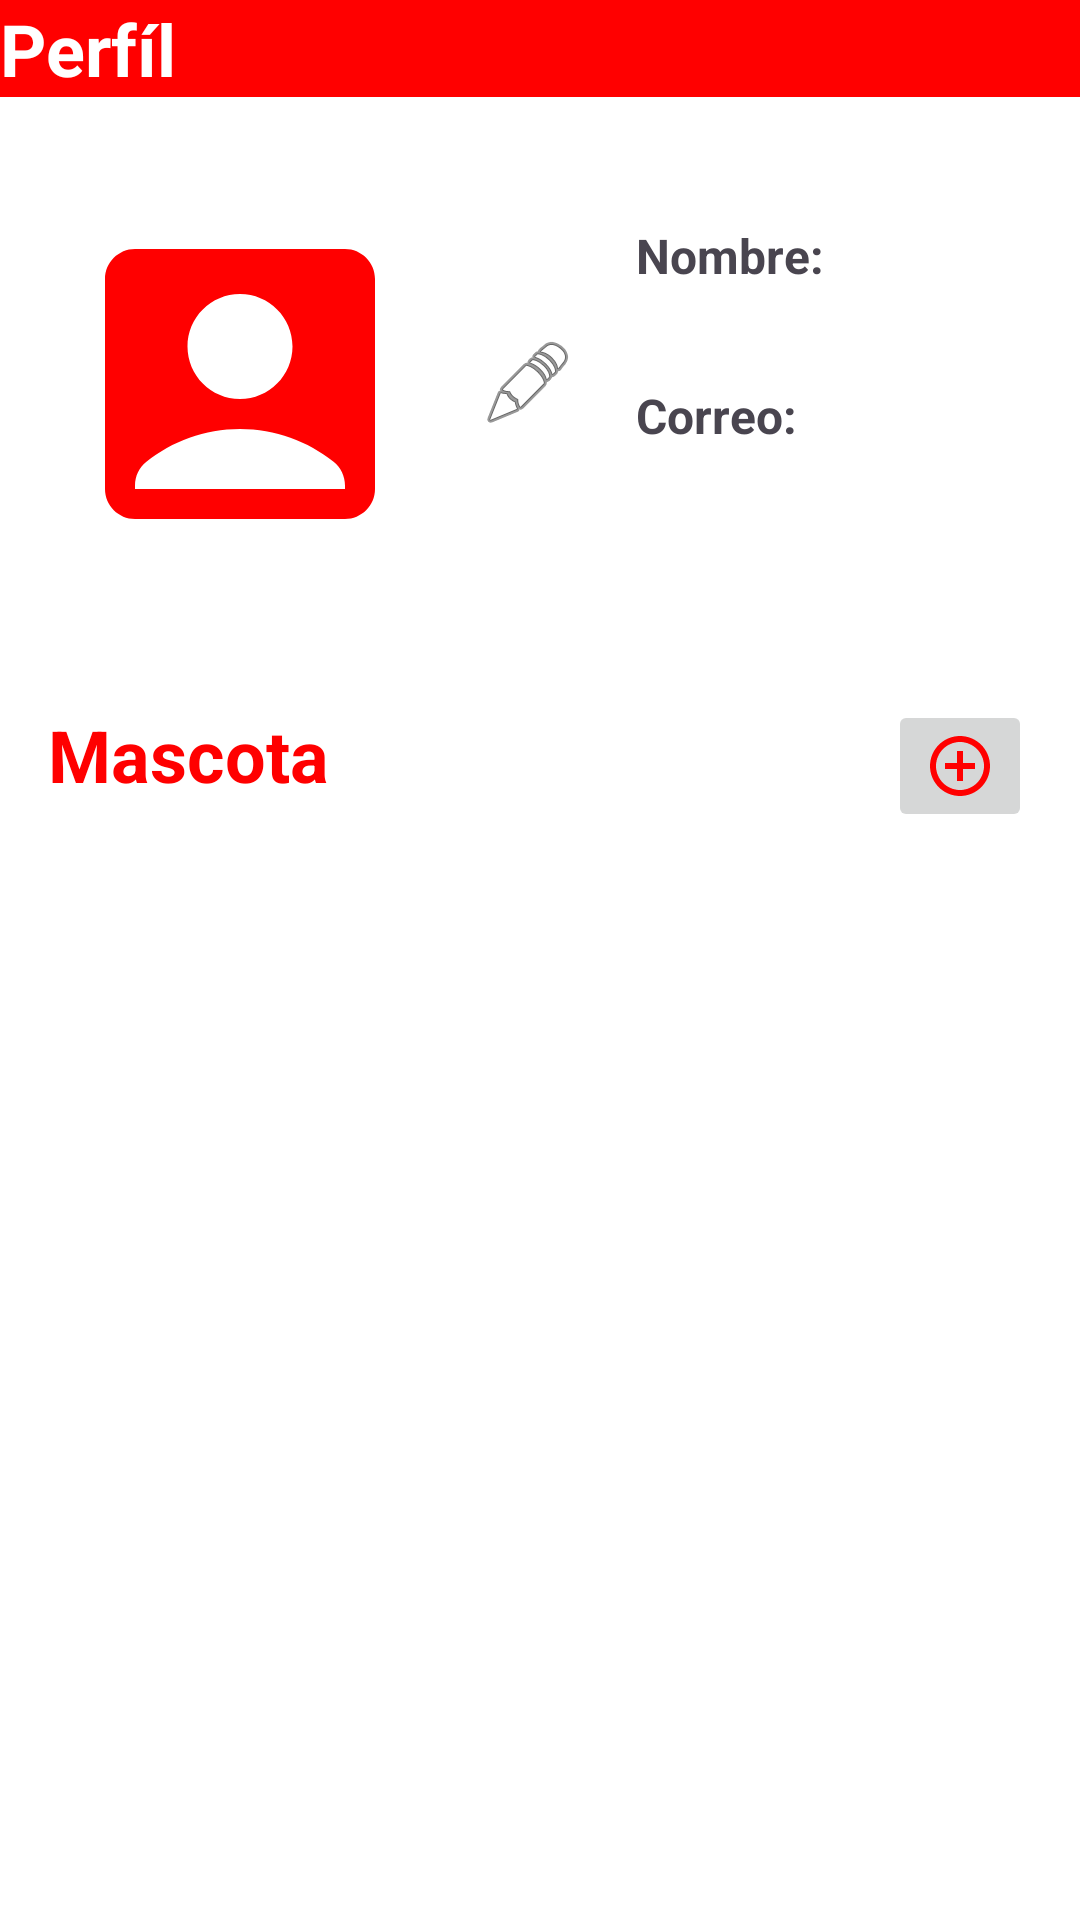

Icon bounding boxes for this 1080 × 1920 phone screenshot, format (x1, y1, x2, y2):
account box: (105, 249, 375, 519)
add circle: (900, 718, 1020, 814)
edit: (487, 342, 568, 423)
